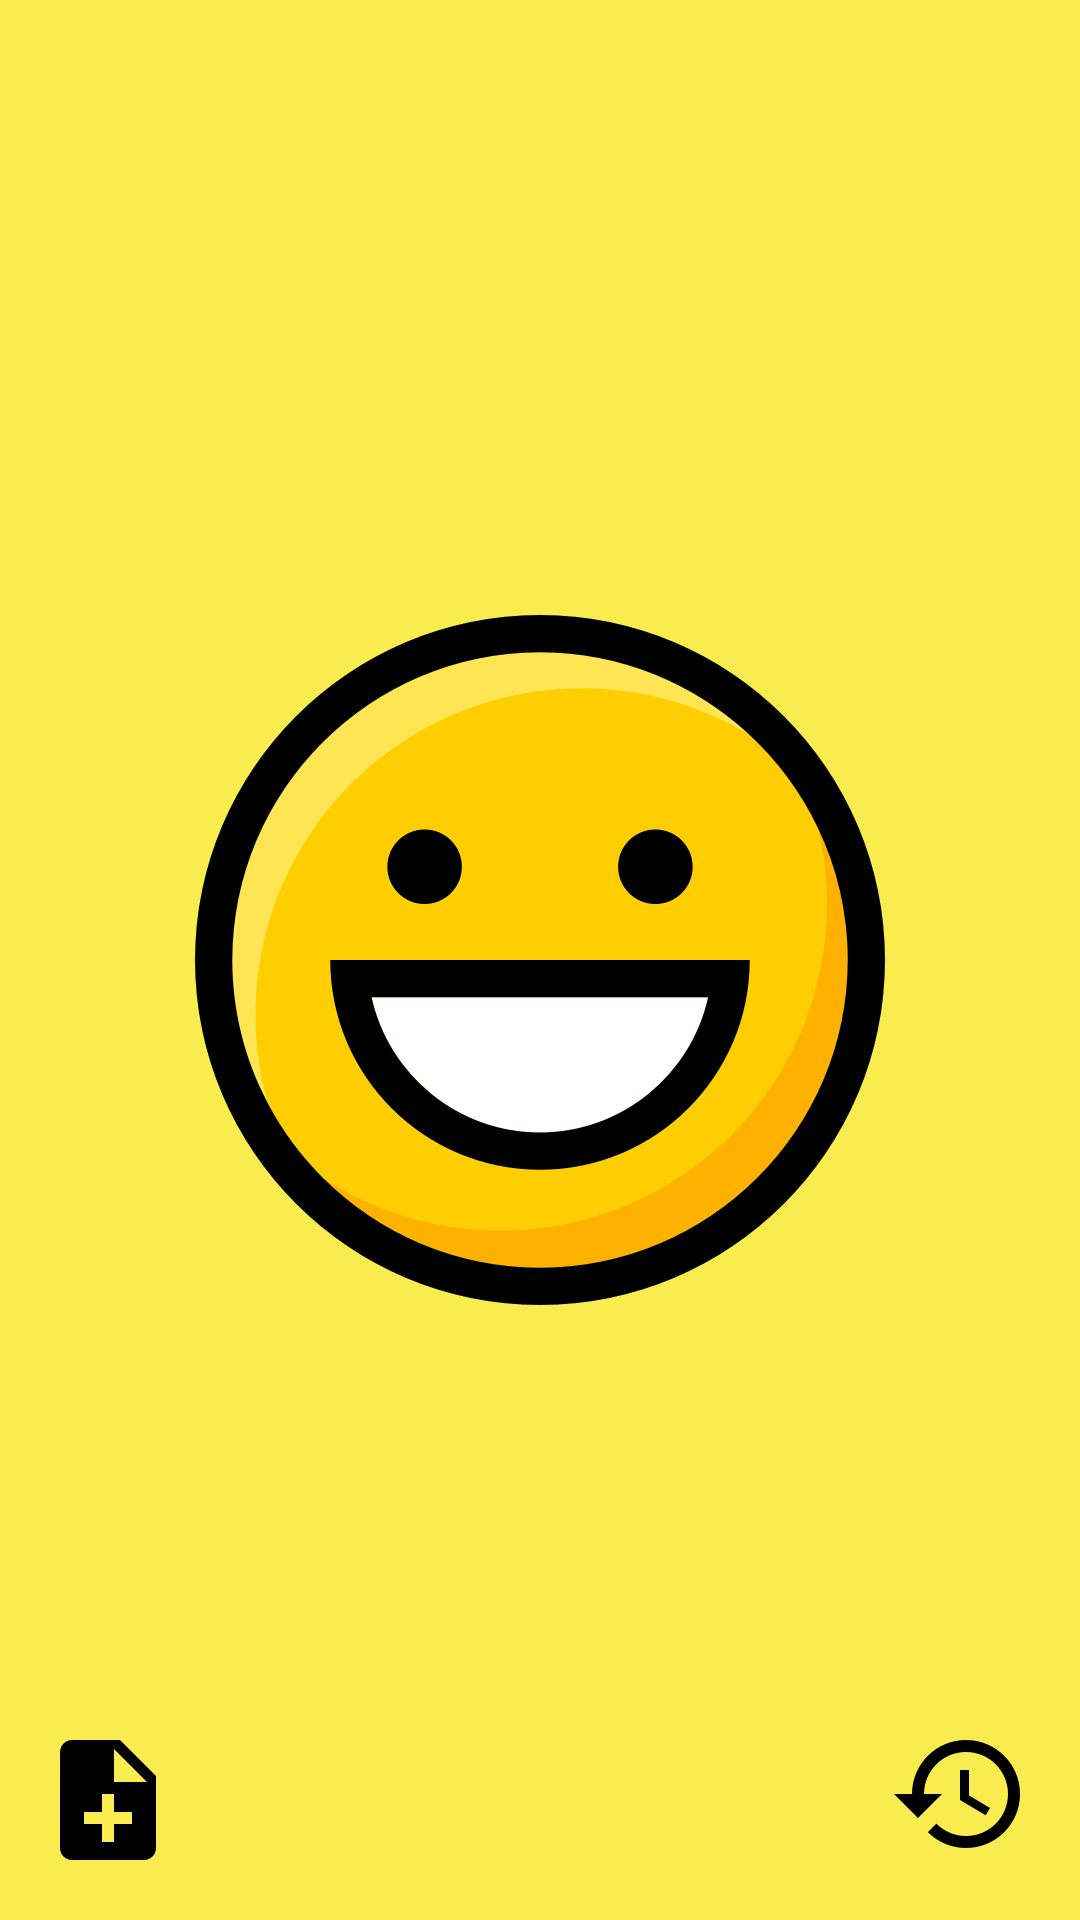

Screen size 1080x1920. Icon name, then its center in pixels as (x,y):
Get your mood history on past 7 day !: (957,1794)
Tell why you feel like this today !: (108,1800)
